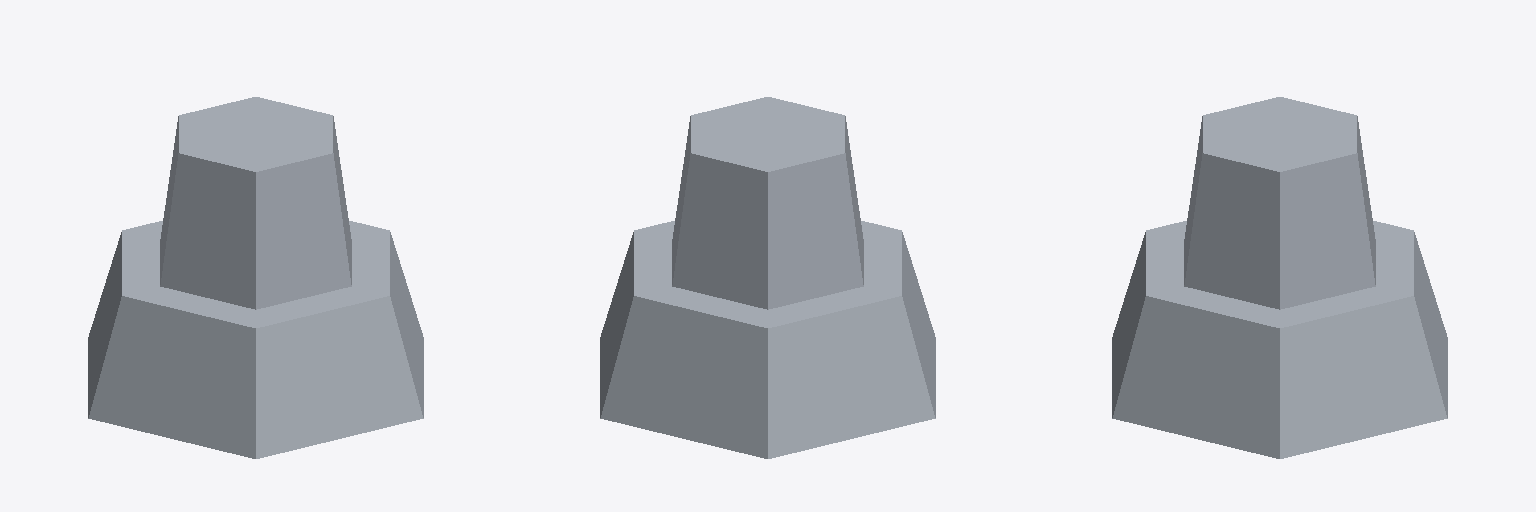
3 renders of one model, left to right at view 1: azimuth 30°, elevation 25°; view 2: azimuth 150°, elevation 25°; view 3: azimuth 270°, elevation 25°, orthographic.
Visible parts, largest first — view 1: Mesh1 Rock_3 Model; view 2: Mesh1 Rock_3 Model; view 3: Mesh1 Rock_3 Model.
Boxes of the visible parts, <box> form: Mesh1 Rock_3 Model: <box>88,97,423,458</box>; Mesh1 Rock_3 Model: <box>600,97,935,458</box>; Mesh1 Rock_3 Model: <box>1112,97,1447,458</box>.
Bounding box in the file's own units: 0.98 × 0.68 × 0.8487.
1 materials, 1 textured.